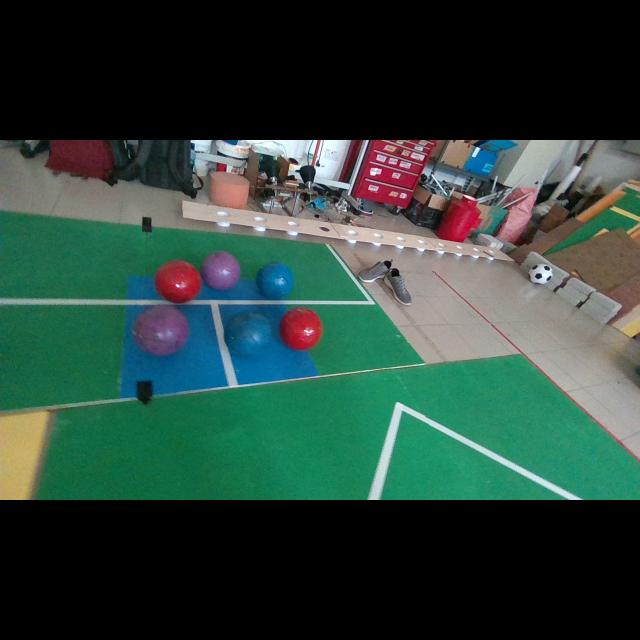B: (225, 312, 271, 355), (256, 262, 294, 299)
P: (132, 305, 189, 356), (201, 251, 240, 290)
R: (155, 261, 201, 302), (280, 308, 322, 350)
